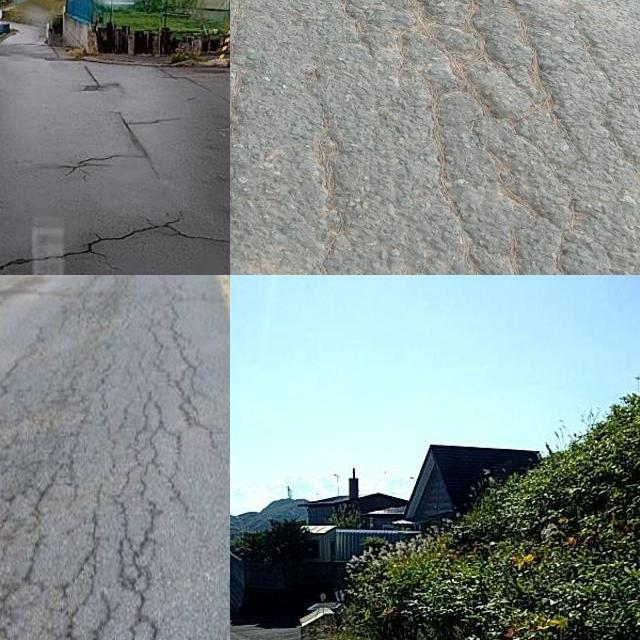Melintang: (0, 208, 188, 275)
Retak Buaya: (332, 0, 640, 275), (0, 283, 205, 640)
